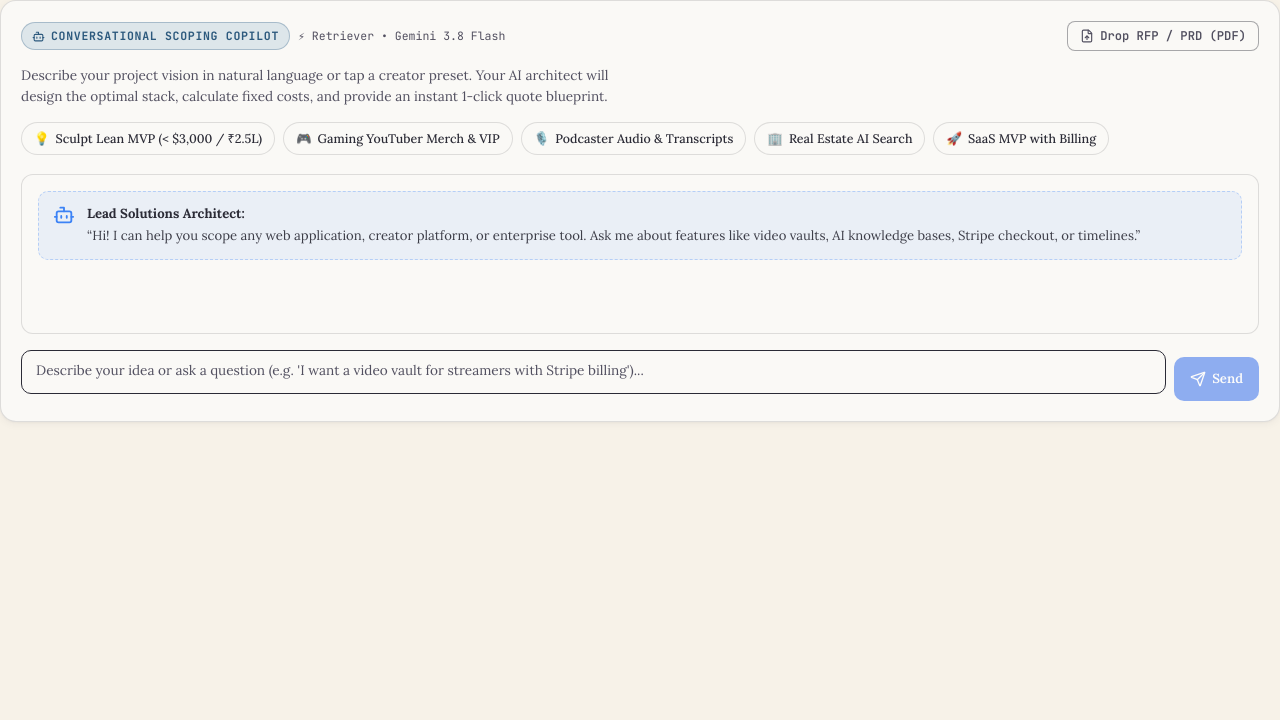
Scenario: InlineScopingChatCard Component › opens RFP modal when Drop RFP button is clicked
Click the button with aria-label "Upload RFP or PRD Document".
click(1163, 36)  # box [1067,21,1259,51]
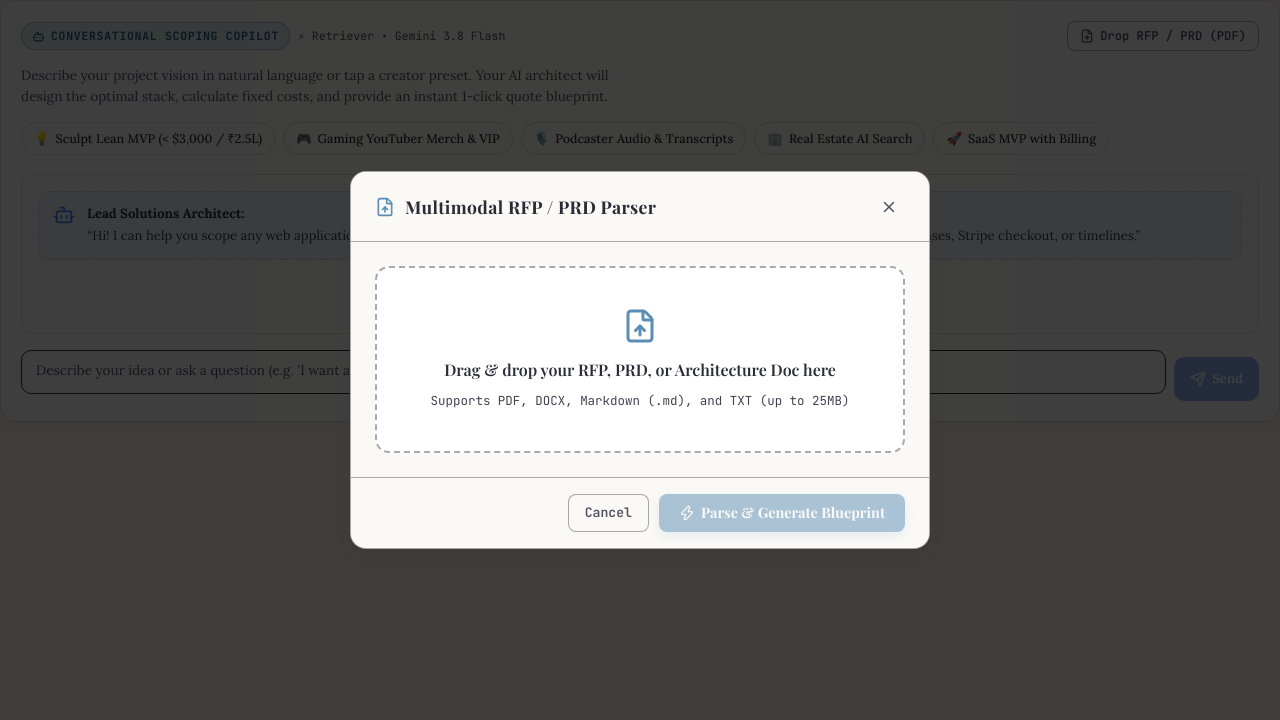
Result: the dialog "Multimodal RFP / PRD Parser" is shown
Result: the text "Drag & drop your RFP, PRD, or Architecture Doc here" is shown at [444,358,836,382]
